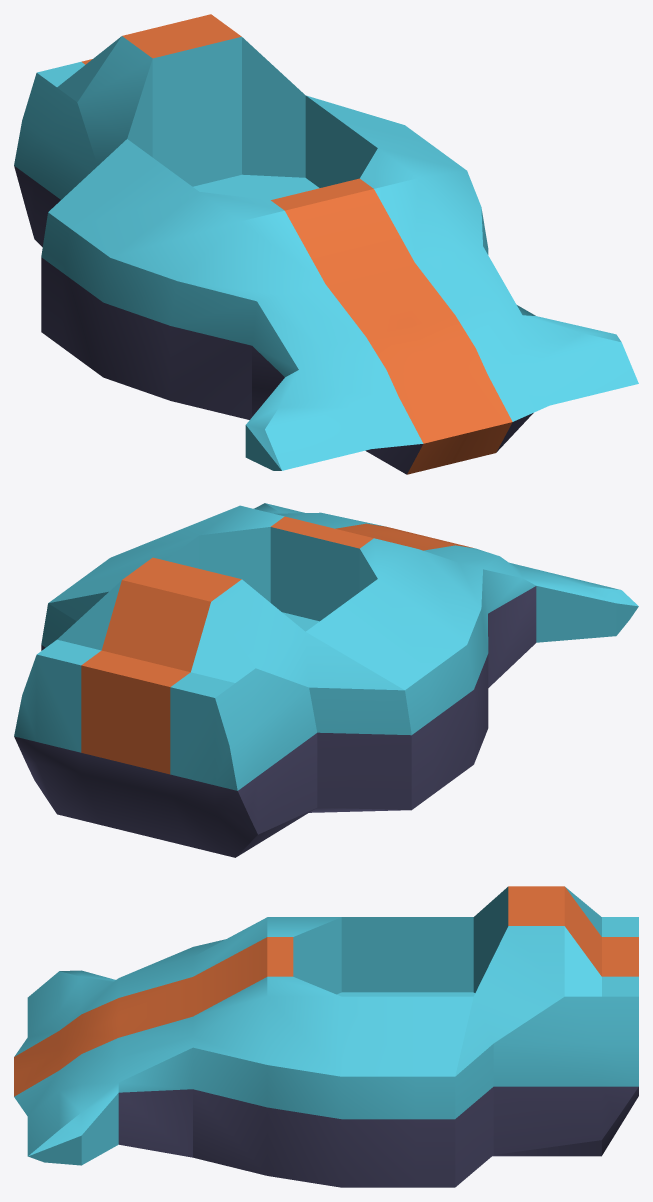
The model's file is F1mini.fbx.
The picture shows the model from 3 angles, top to bottom: view 1: azimuth 30°, elevation 25°; view 2: azimuth 150°, elevation 25°; view 3: azimuth 270°, elevation 25°; orthographic projection. The views are drawn at different scales.
Visible parts, largest first — view 1: Chassi; view 2: Chassi; view 3: Chassi.
Part boxes in pixels (x1,y1,x2,y2): Chassi: (14,14,638,474); Chassi: (14,503,638,857); Chassi: (14,886,638,1187).
Bounding box in the file's own units: 131 × 78.05 × 210.
